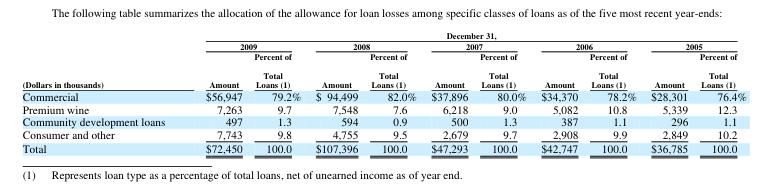table: (21, 29, 745, 155)
table column: (21, 29, 184, 155), (184, 29, 247, 155), (247, 29, 307, 155), (363, 29, 423, 155), (473, 29, 533, 155), (583, 29, 643, 155), (307, 29, 363, 155), (693, 29, 745, 155), (423, 29, 473, 155), (533, 29, 583, 155), (643, 29, 693, 155)
table column header: (21, 29, 745, 89)
table row: (21, 50, 745, 89), (21, 140, 745, 155), (21, 89, 745, 102), (21, 114, 745, 127), (21, 127, 745, 140), (21, 102, 745, 114), (21, 29, 745, 40), (21, 40, 745, 50)
table spanning cell: (21, 29, 184, 89), (184, 29, 745, 40), (184, 40, 307, 50), (307, 40, 423, 50), (423, 40, 533, 50), (533, 40, 643, 50), (643, 40, 745, 50)
